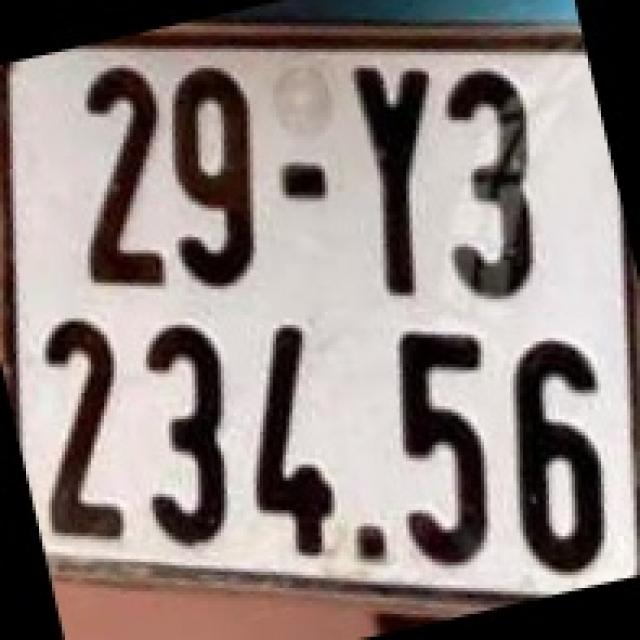2: (39, 312, 133, 546), (78, 62, 169, 289)
3: (442, 68, 539, 302), (140, 322, 230, 549)
4: (250, 322, 341, 558)
5: (393, 328, 494, 565)
6: (510, 334, 608, 572)
9: (169, 65, 260, 289)
Y: (351, 52, 432, 305)
